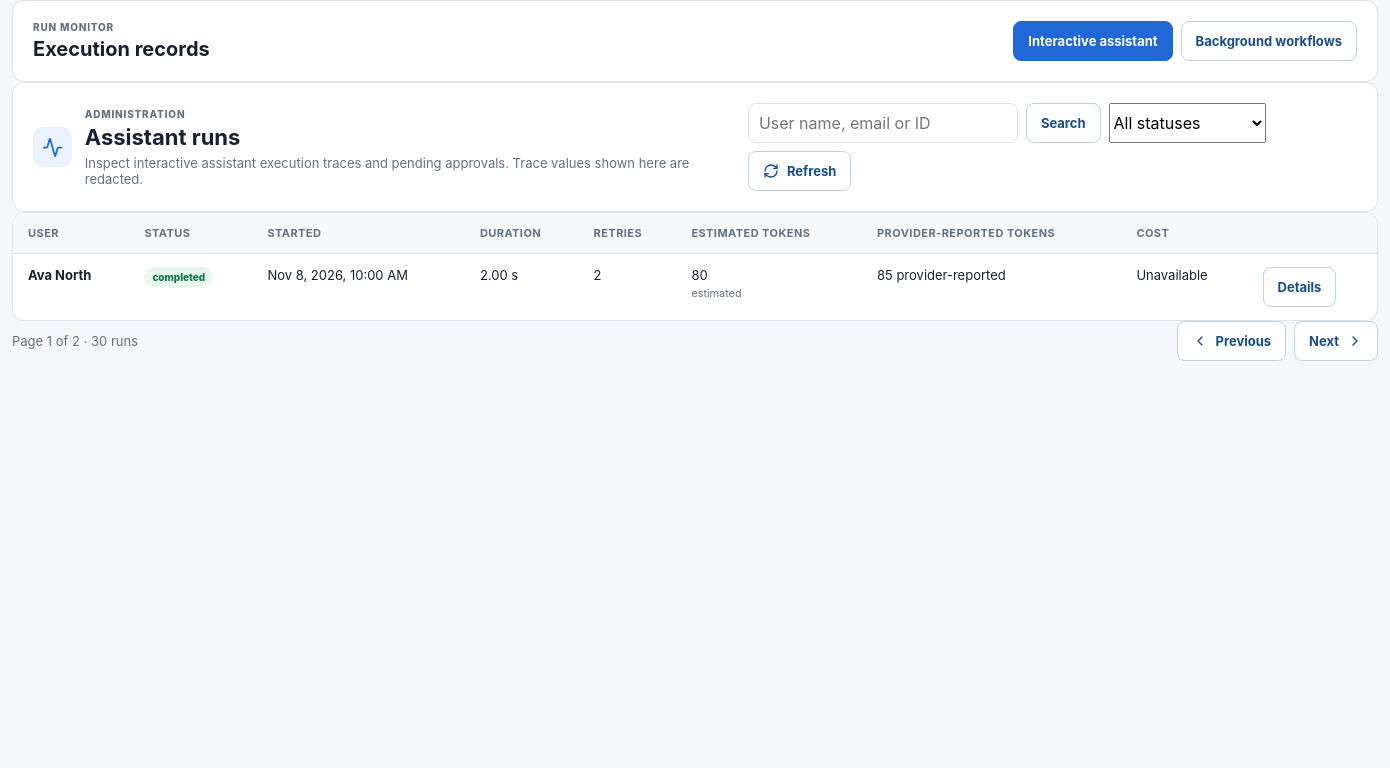
AdminAssistantRunsPage › labels queued, running, completed, and failed background workflow states
The width and height of the screenshot is (1390, 768).
Check: the table named "Assistant runs" is shown, box [13,213,1377,320]
Click the tab "Background workflows". click: coordinates (1269, 41)
box: [1181,21,1357,61]
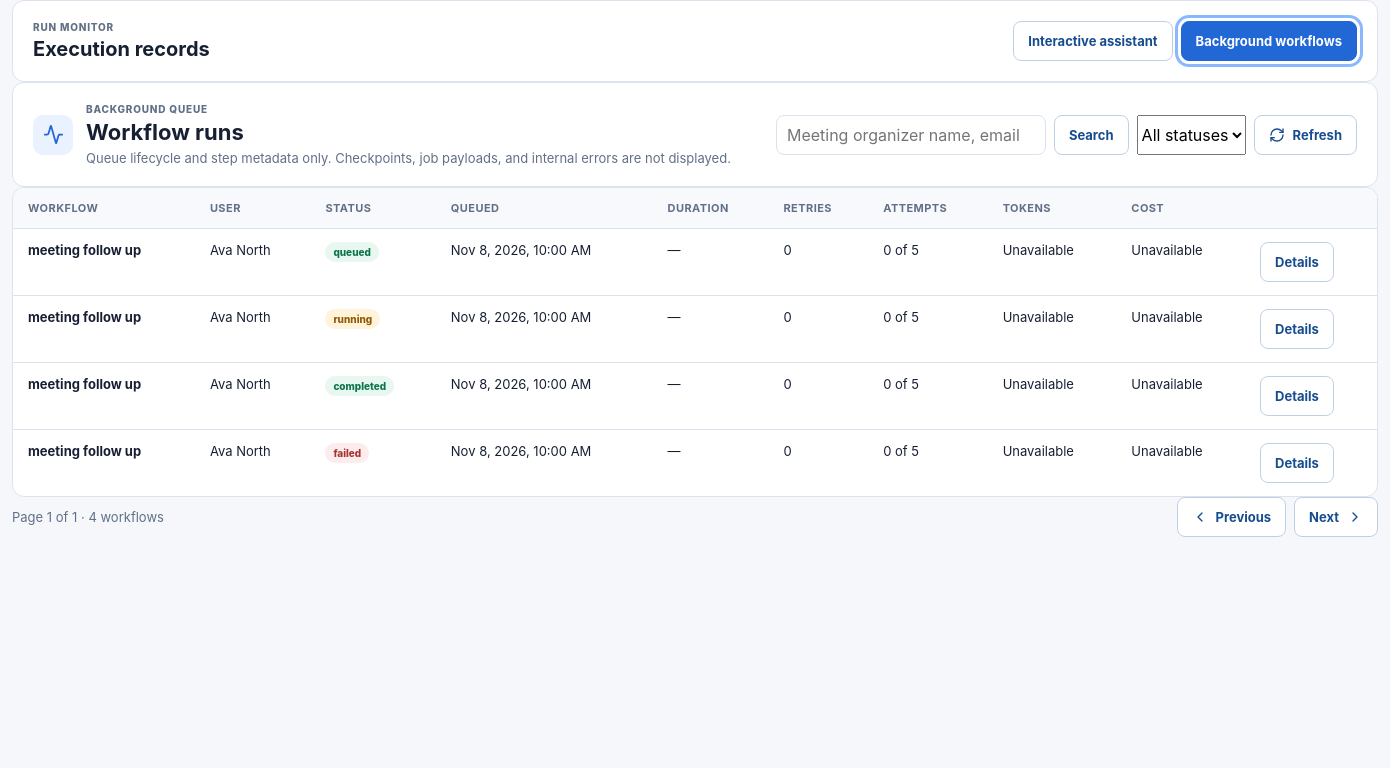
Check: the text "queued" is shown, box [325,242,379,262]
Check: the text "running" is shown, box [325,309,380,329]
Check: the text "failed" is shown, box [325,443,369,463]
